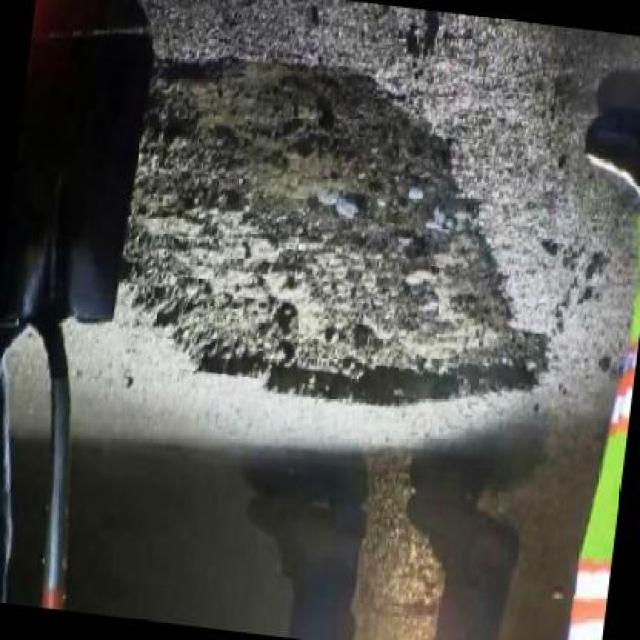pothole: (71, 44, 586, 436)
